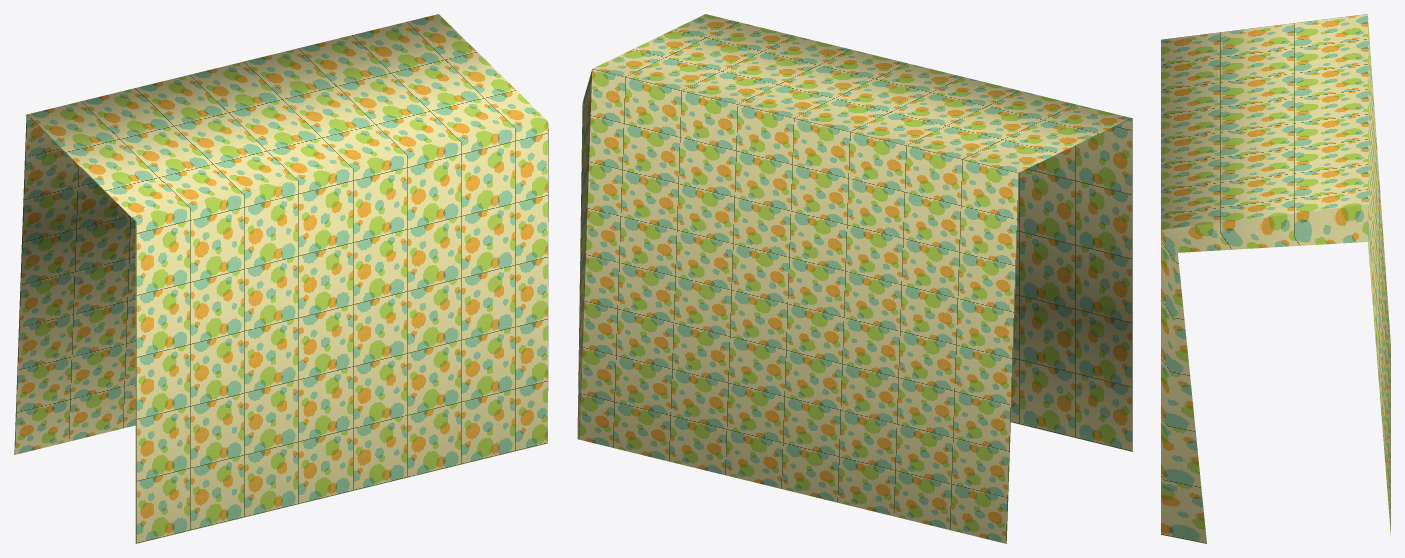
File: 4636floor000_c.gltf
The picture shows the model from 3 angles, left to right: view 1: azimuth 30°, elevation 25°; view 2: azimuth 150°, elevation 25°; view 3: azimuth 270°, elevation 25°; orthographic projection. The views are drawn at different scales.
Parts seen in each view (by area): view 1: 4636floor000_c; view 2: 4636floor000_c; view 3: 4636floor000_c.
Part boxes in pixels (box(x1,y1,x2,y2)): 4636floor000_c: box(14, 14, 548, 543); 4636floor000_c: box(577, 14, 1132, 543); 4636floor000_c: box(1161, 14, 1390, 543).
Bounding box in the file's own units: 2.05 × 1.59 × 1.
1 material, 1 textured.
